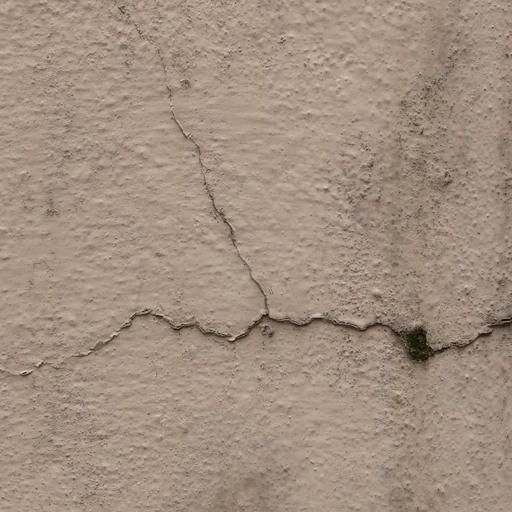minor_crack: (111, 0, 296, 321), (0, 296, 512, 387)
